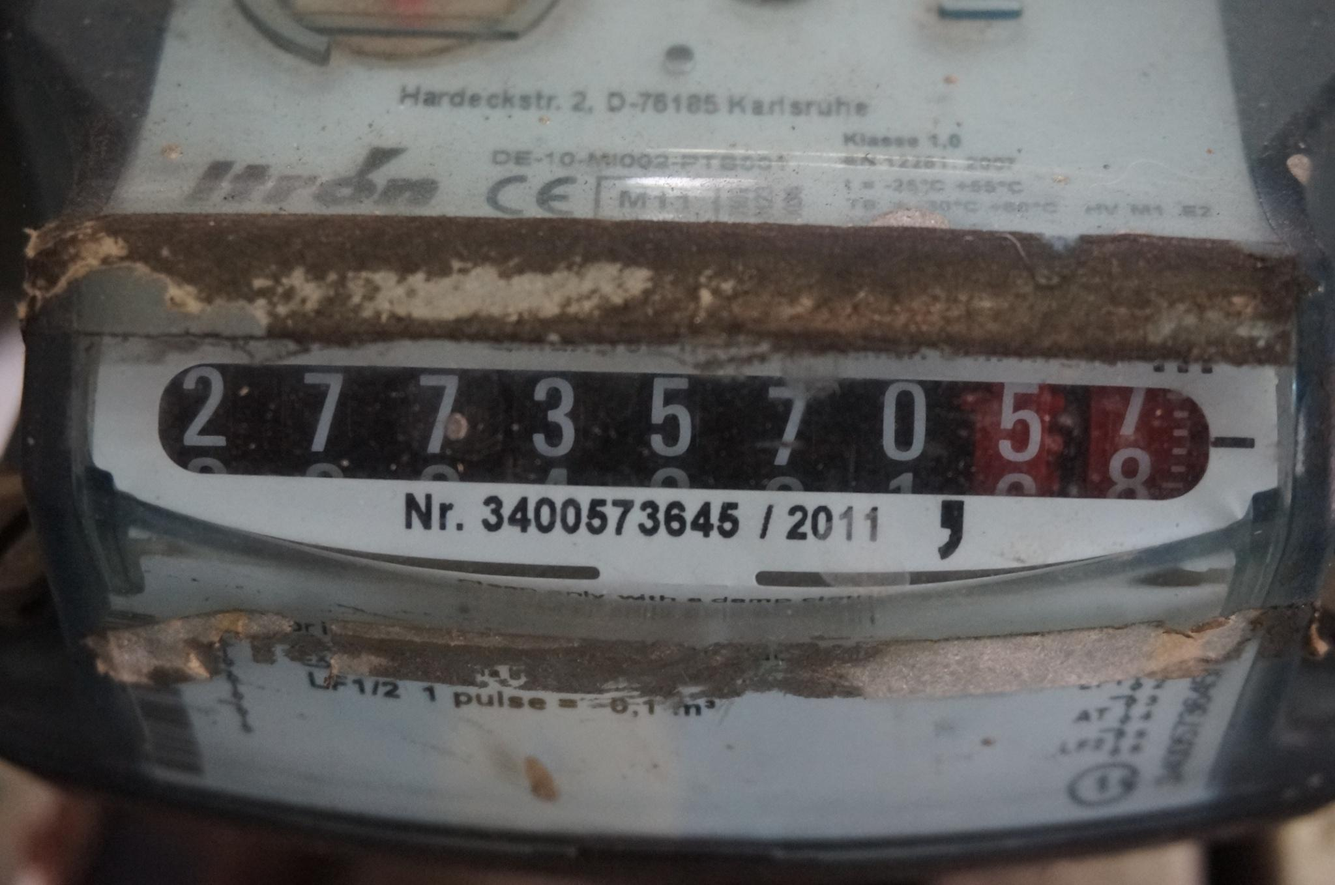analog_dial: (147, 344, 1259, 523)
